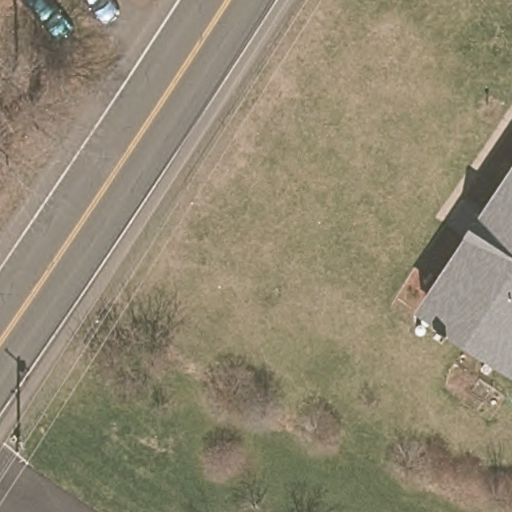DT: (3, 441, 34, 470)
